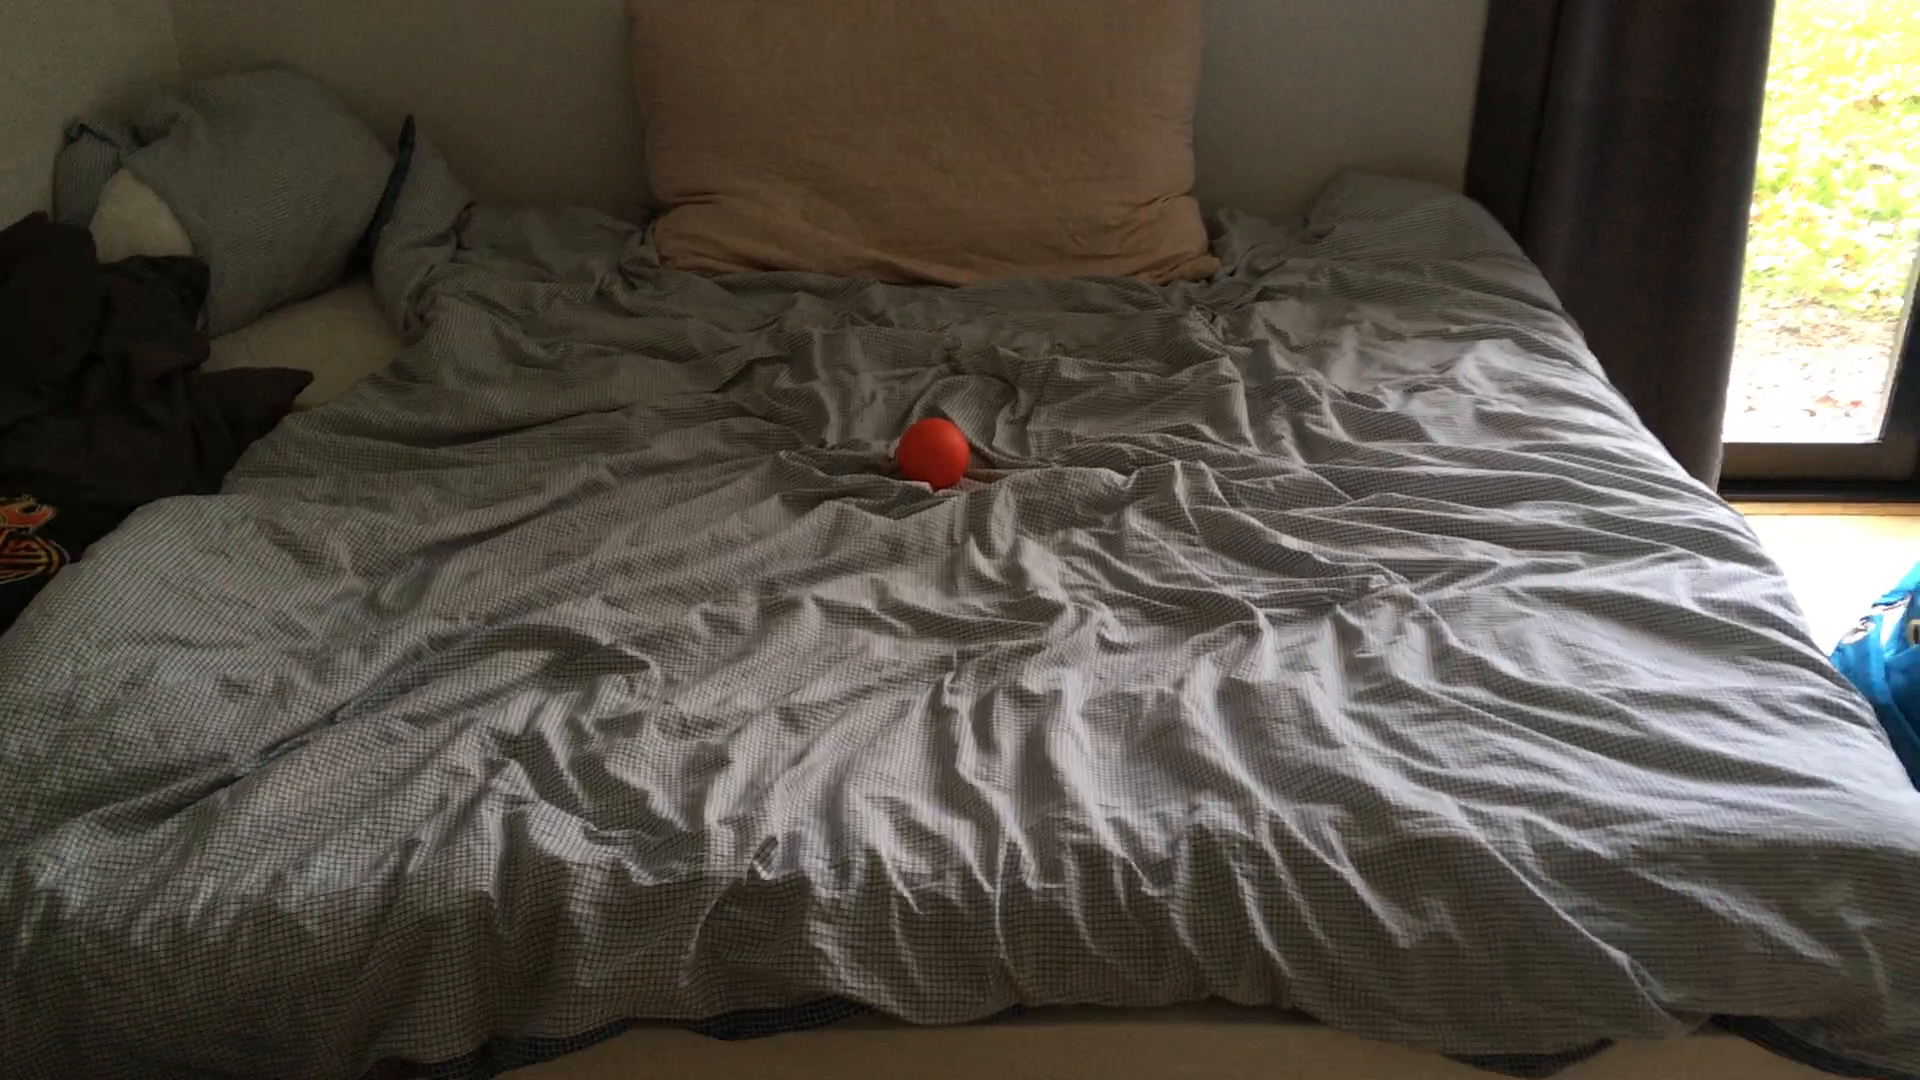Ball: (894, 415, 972, 491)
